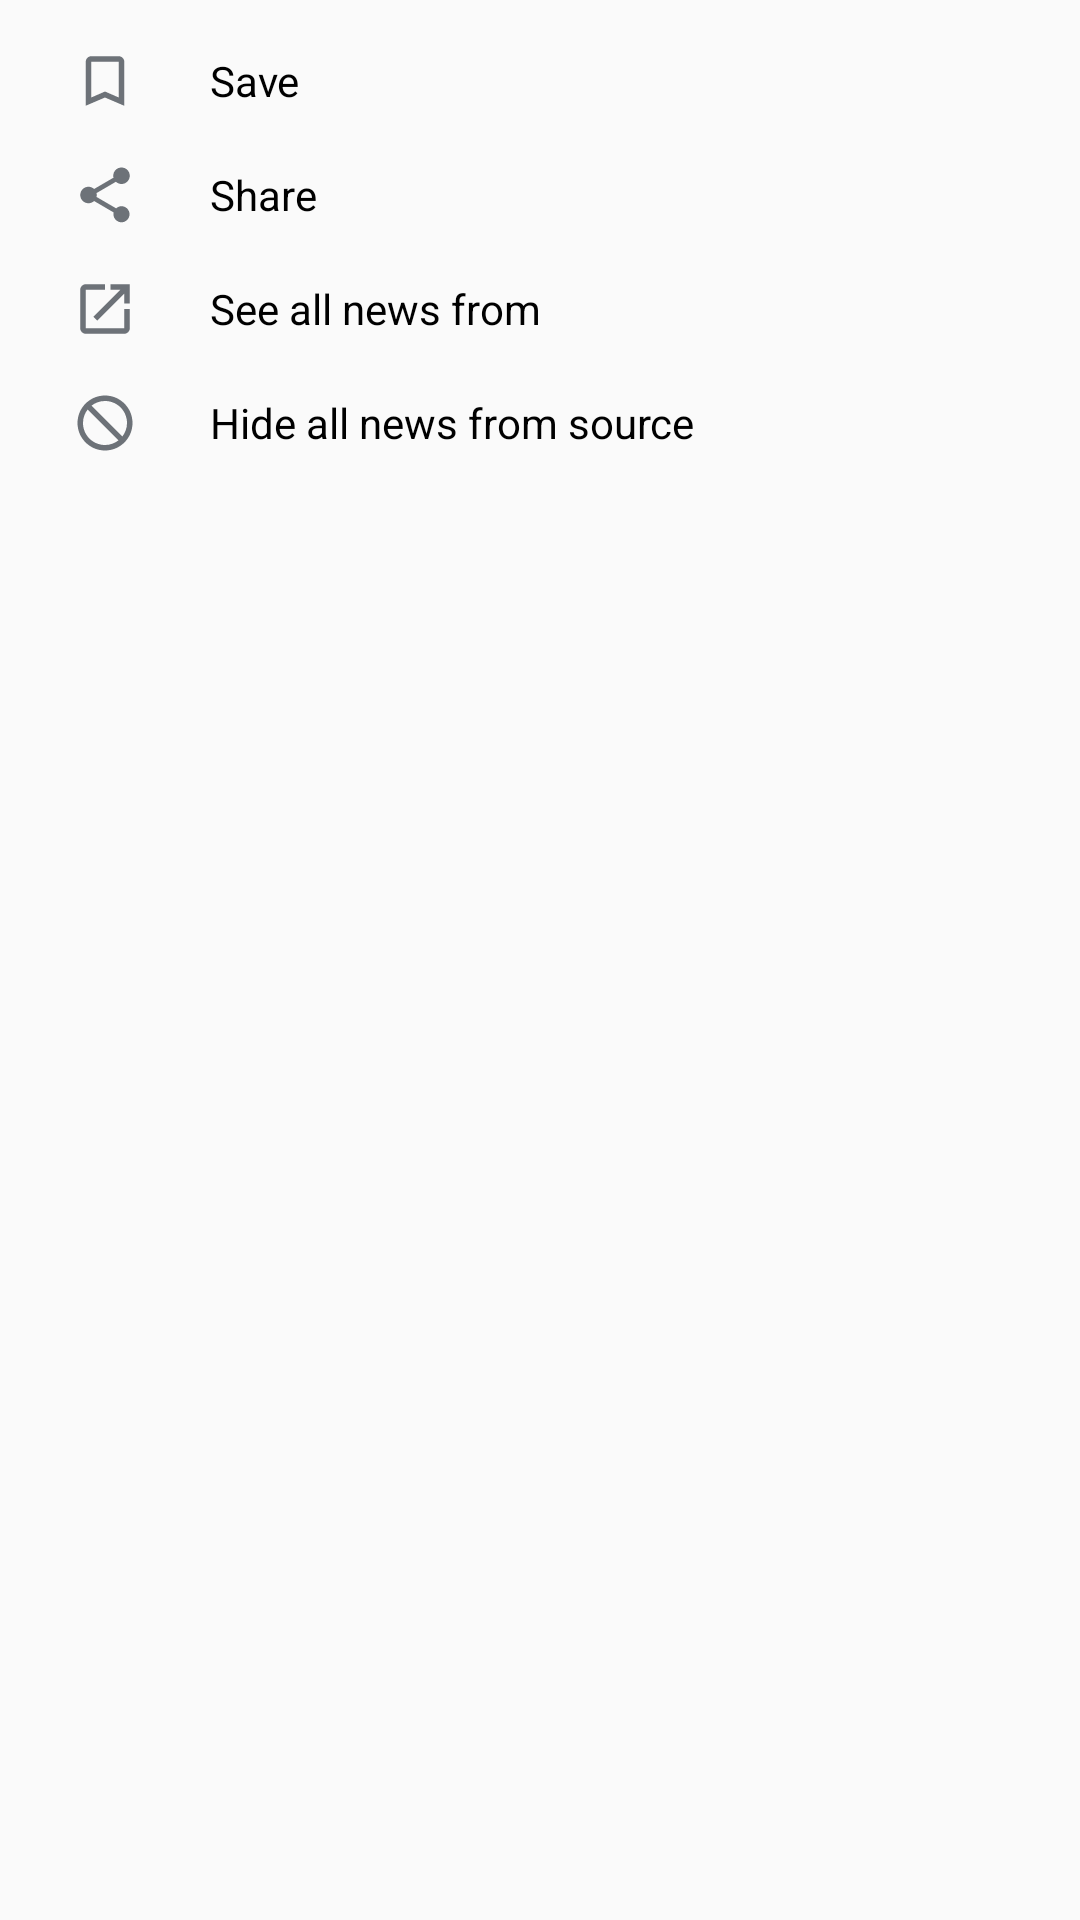

Icon bounding boxes for this 1080x1920 phone screenshot, format (x1, y1, x2, y2):
bookmark: (85, 56, 125, 106)
cancel: (77, 395, 133, 451)
open in: (80, 284, 130, 334)
